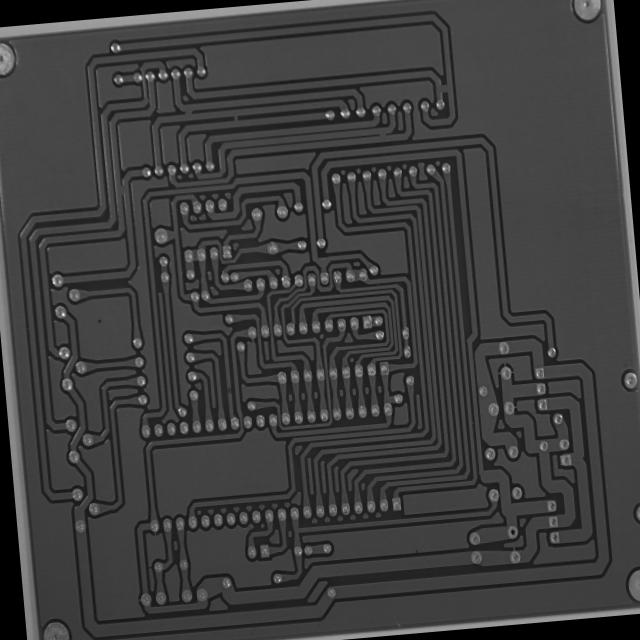short: (432, 74, 455, 99), (177, 100, 197, 123), (372, 124, 390, 142), (228, 106, 242, 128), (114, 180, 131, 198)
